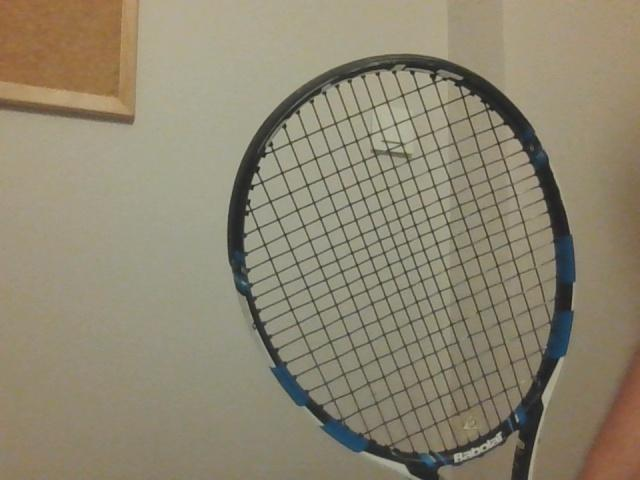Tennis-Racket: (228, 50, 576, 480)
